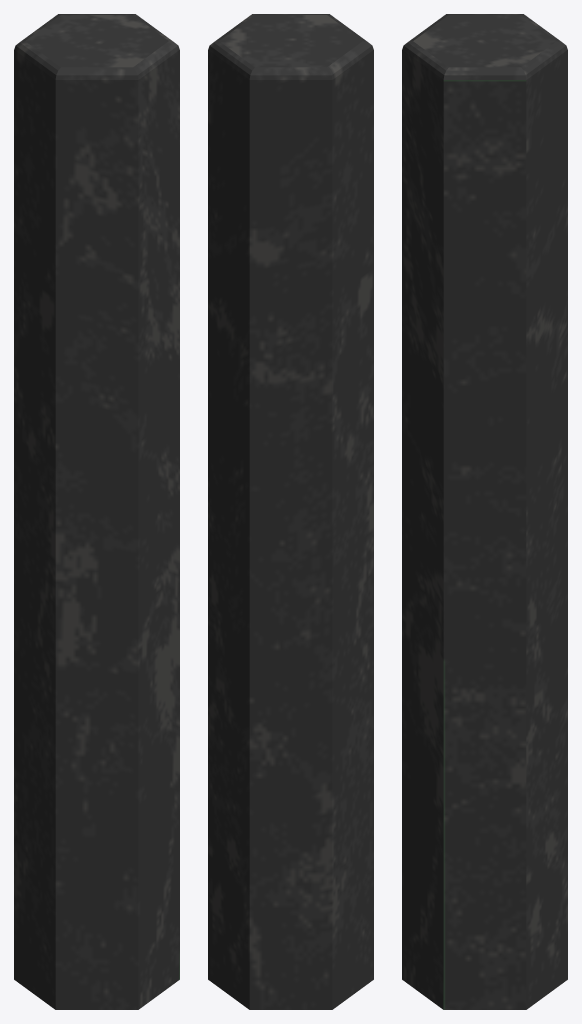
Rendered from pilier_1.gltf.
3 renders of one model, left to right at view 1: azimuth 30°, elevation 25°; view 2: azimuth 150°, elevation 25°; view 3: azimuth 270°, elevation 25°, orthographic.
Visible parts, largest first — view 1: Cylinder.003; view 2: Cylinder.003; view 3: Cylinder.003.
Boxes of the visible parts, bbox=[...] form: Cylinder.003: bbox=[14, 14, 179, 1009]; Cylinder.003: bbox=[208, 14, 373, 1009]; Cylinder.003: bbox=[402, 14, 567, 1009].
Bounding box in the file's own units: 0.1386 × 1 × 0.16.
Materials: 1 (1 with a texture image).
